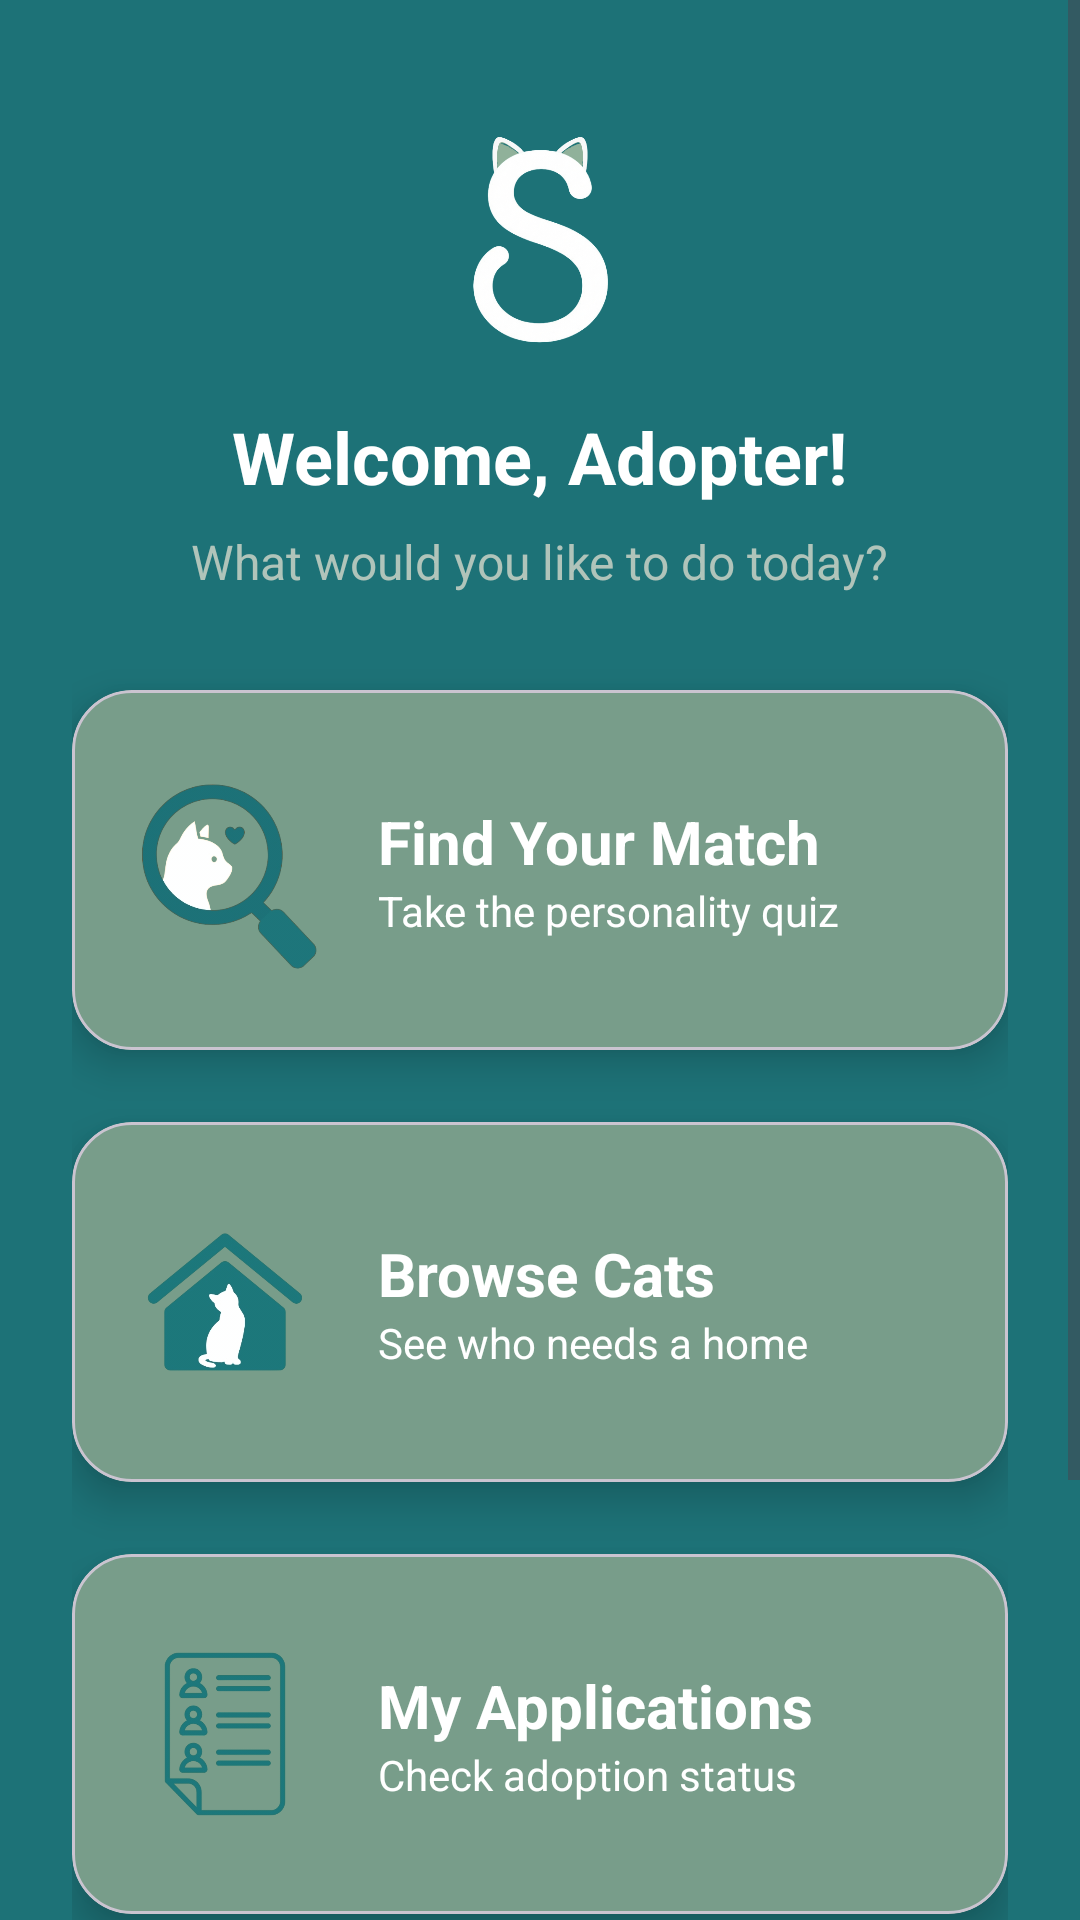

Icons on this 1080 × 1920 Android screen, each with the point to tap as (x=x, y=y):
application status: (x=225, y=1734)
house: (x=225, y=1302)
search: (x=229, y=876)
